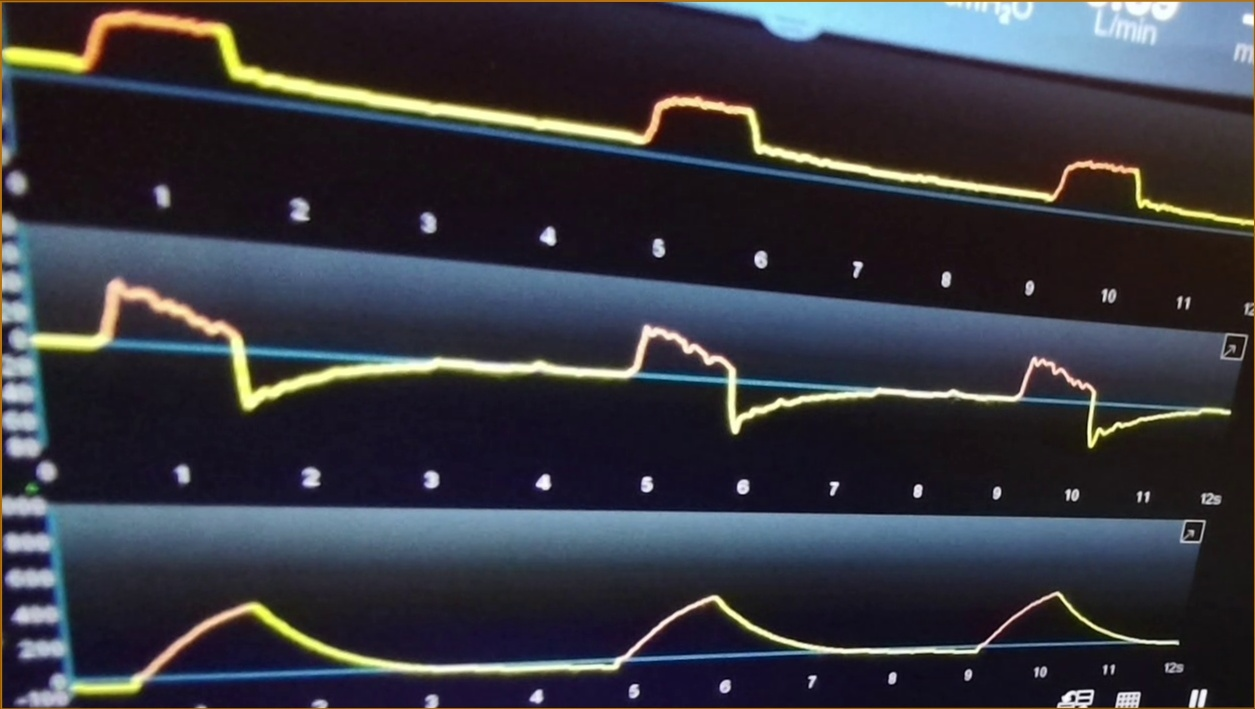Accumulation Flow: (46, 276, 1234, 457)
Volume: (78, 560, 1178, 698)
